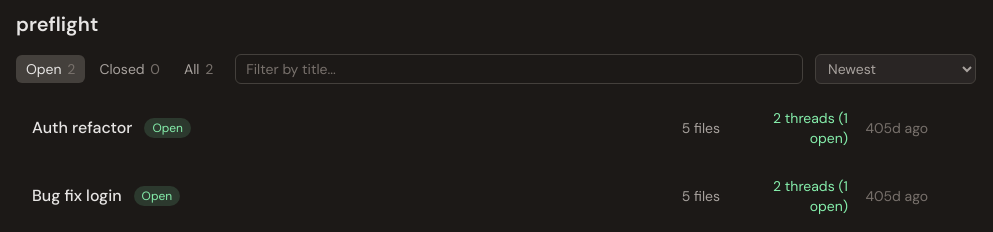
ReviewList filtering and sorting › text search › filters reviews by title
In the field with placeholder "Filter by title...": (519, 69) [235,54,803,84], type "auth"
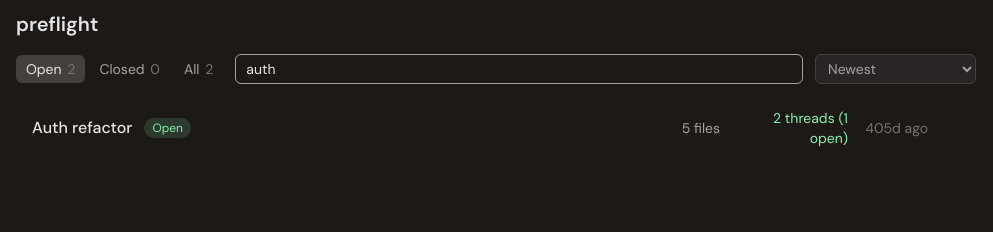
Expected: the text "Auth refactor" is shown, [32,116,132,140]
Now the button "Bug fix login" is gone
